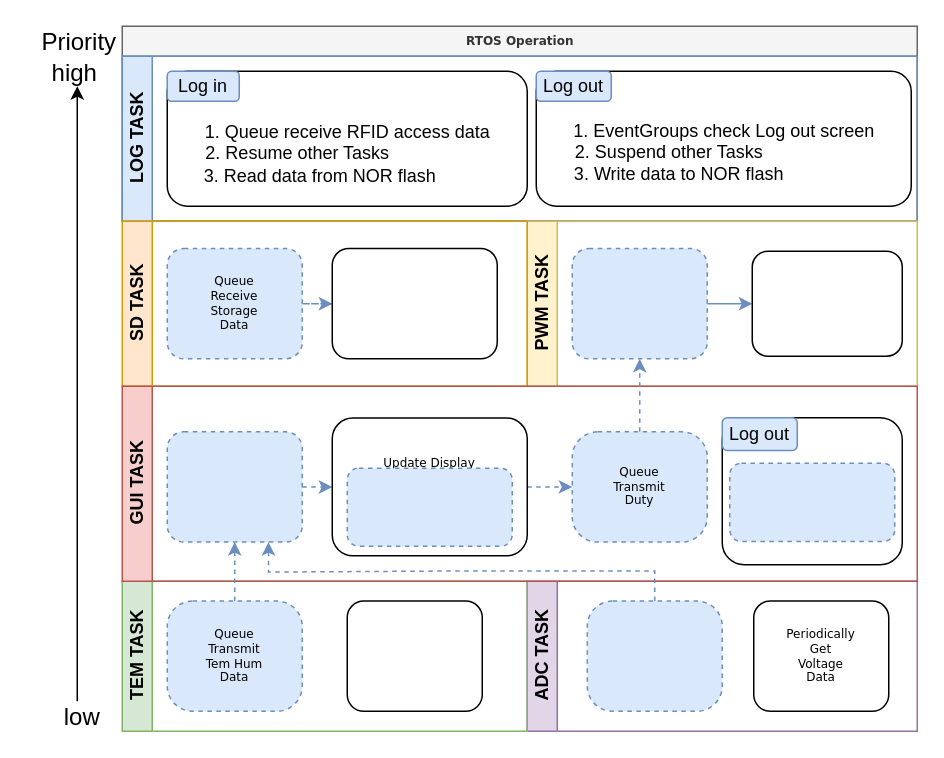
The diagram is 944 pixels wide and 758 high, and some of its shapes have lost their labels. Each missing label, with the centre of its shape:
Change PWM DUTY: [826,303]
EventGroups Store Log Out Screen: [811,502]
Periodically Get Tem Hum Data: [414,655]
Queue Receive Display Data: [234,486]
Queue Receive Duty: [639,303]
Queue Transmit Voltage Data: [654,655]
Store data into SD Card: [414,303]
Synchronize with Queue: [429,506]
